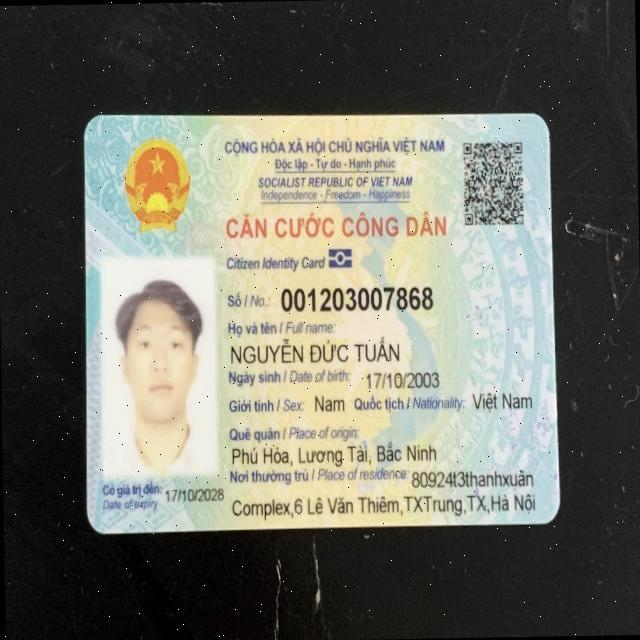current_place: (231, 486, 537, 521), (409, 459, 535, 491)
dob: (365, 366, 443, 391)
expire_date: (166, 482, 228, 508)
gender: (308, 389, 352, 418)
id: (277, 273, 434, 317)
name: (227, 336, 401, 368)
nationality: (468, 387, 532, 416)
origin_place: (228, 440, 450, 469)
